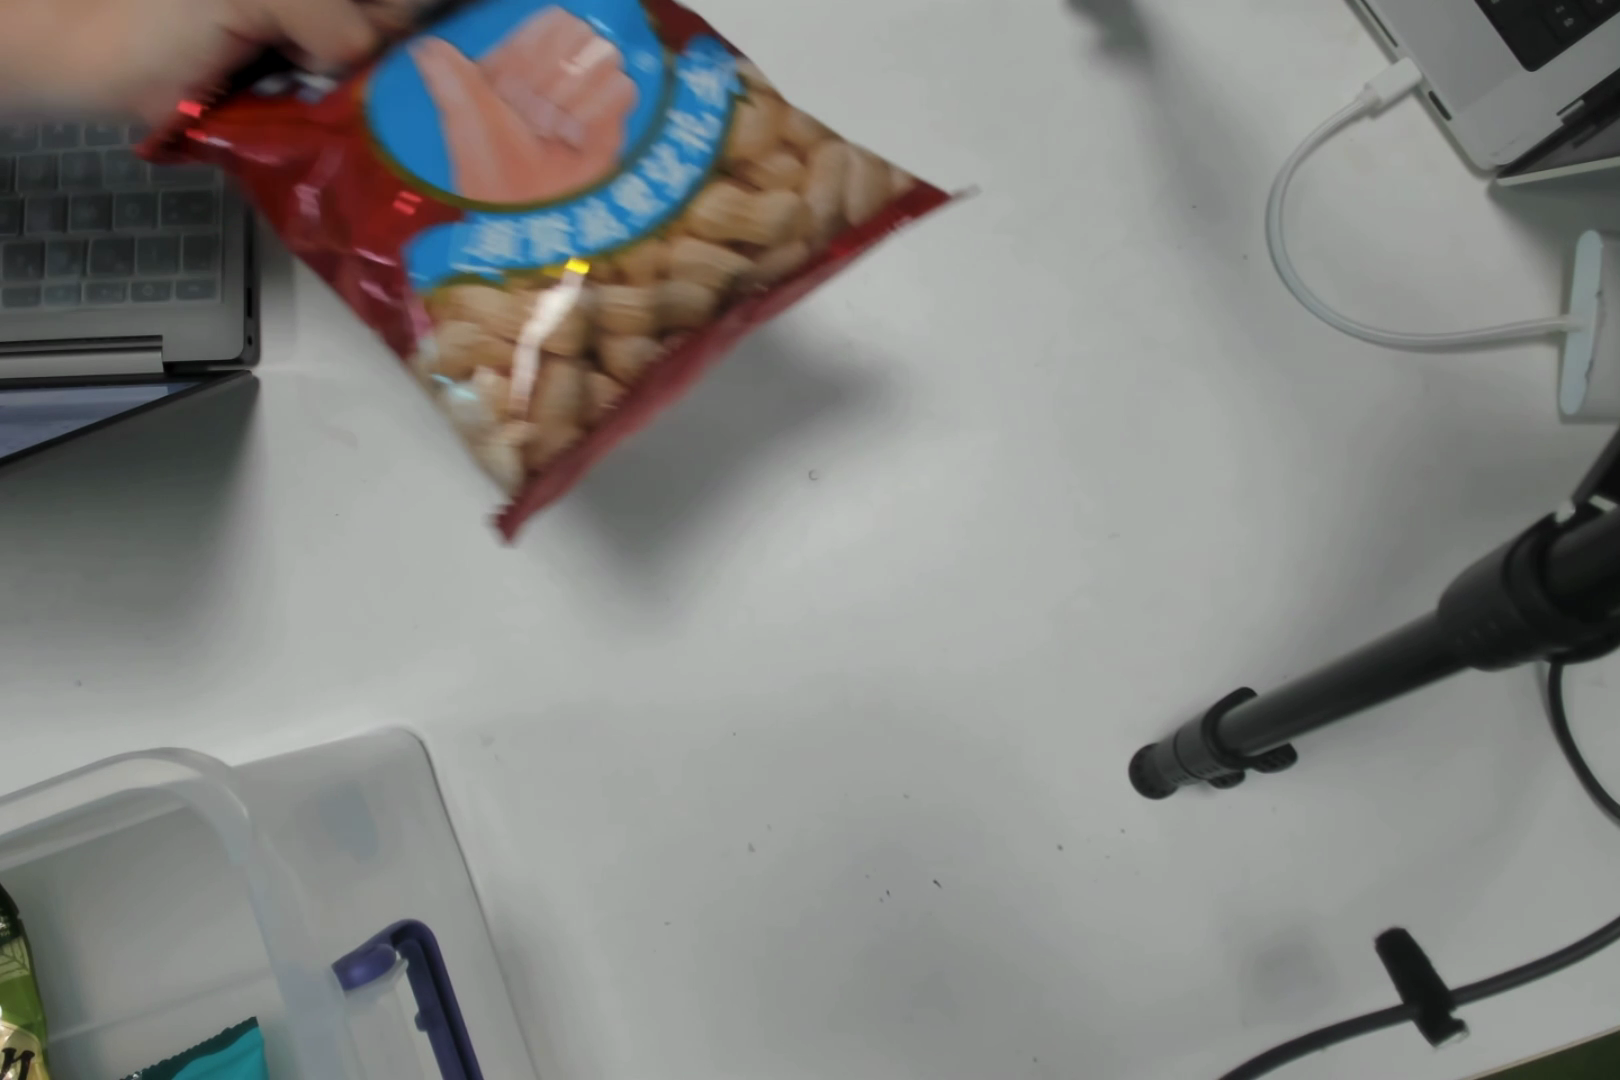Nuts_100-199g_Halal_NonHealthy: (350, 29, 837, 425)
